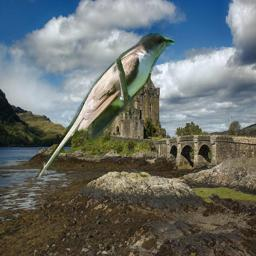Cuckoo: (36, 33, 174, 180)
